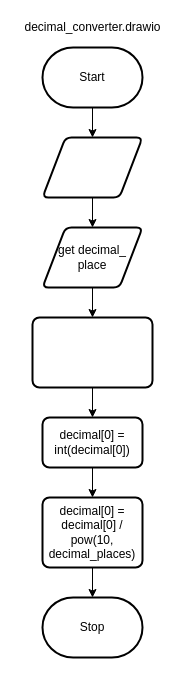
Image size: 184x675. Some labels were removed from this diagram. The shapes that lost their labels are listed below. From the top down, each one's box as (x1, y1, x2, y2) in pixels, then its label:
(41, 136, 143, 198): get decimal
(31, 316, 153, 388): decimal[0] = decimal[0] * pow(10, decimal_places) + 0.5
